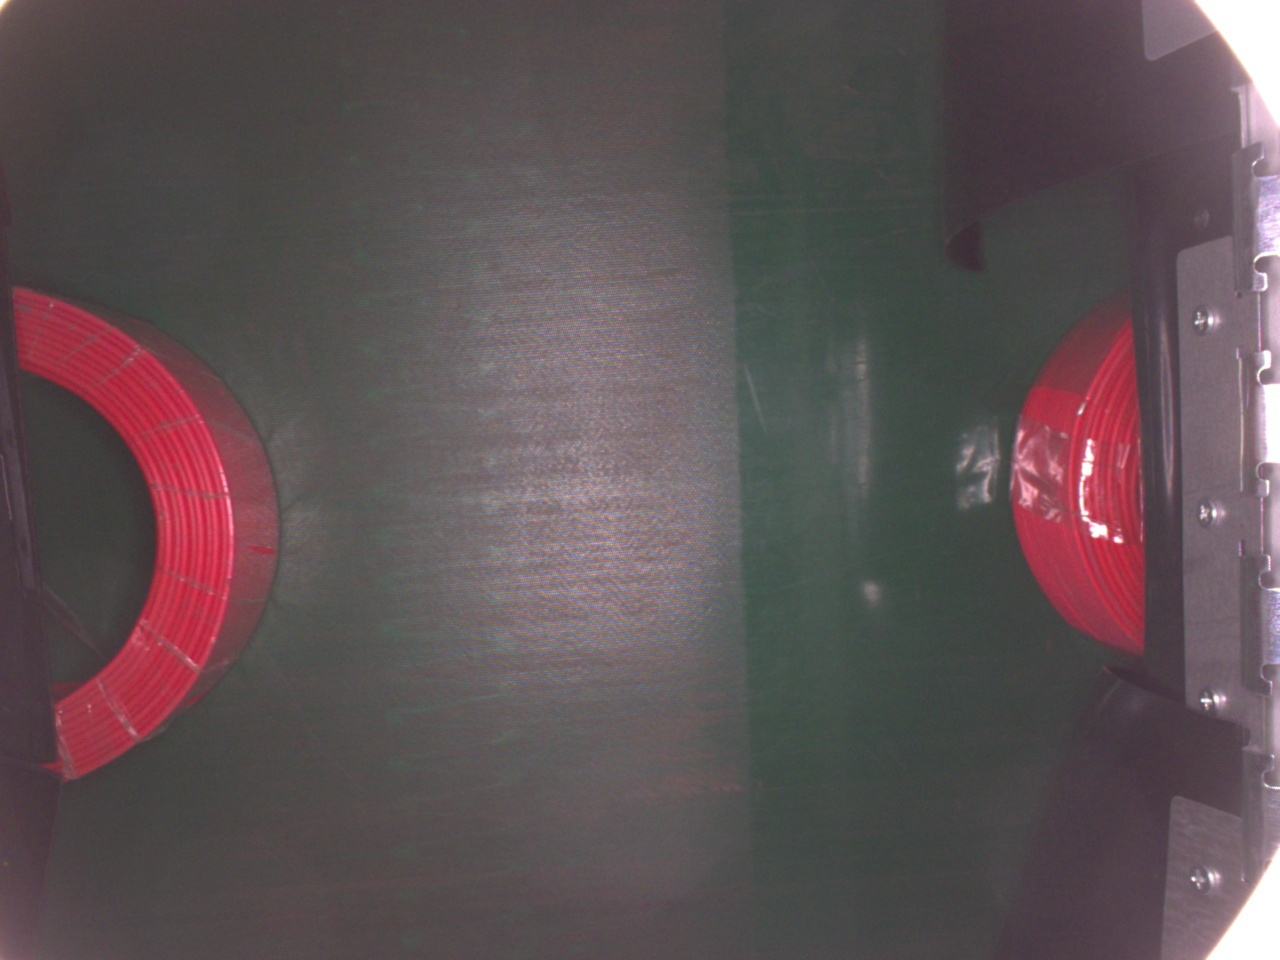red: (2, 281, 279, 778)
